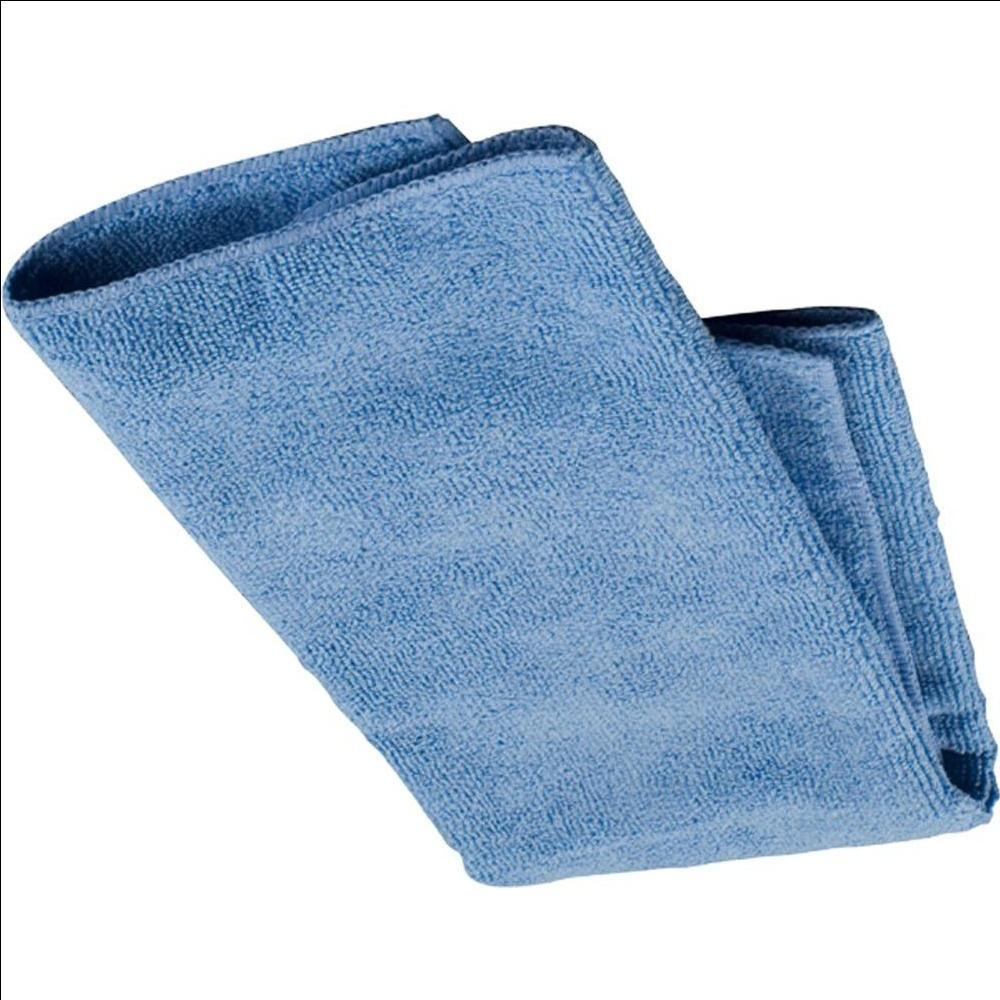towel: (0, 90, 1000, 900)
